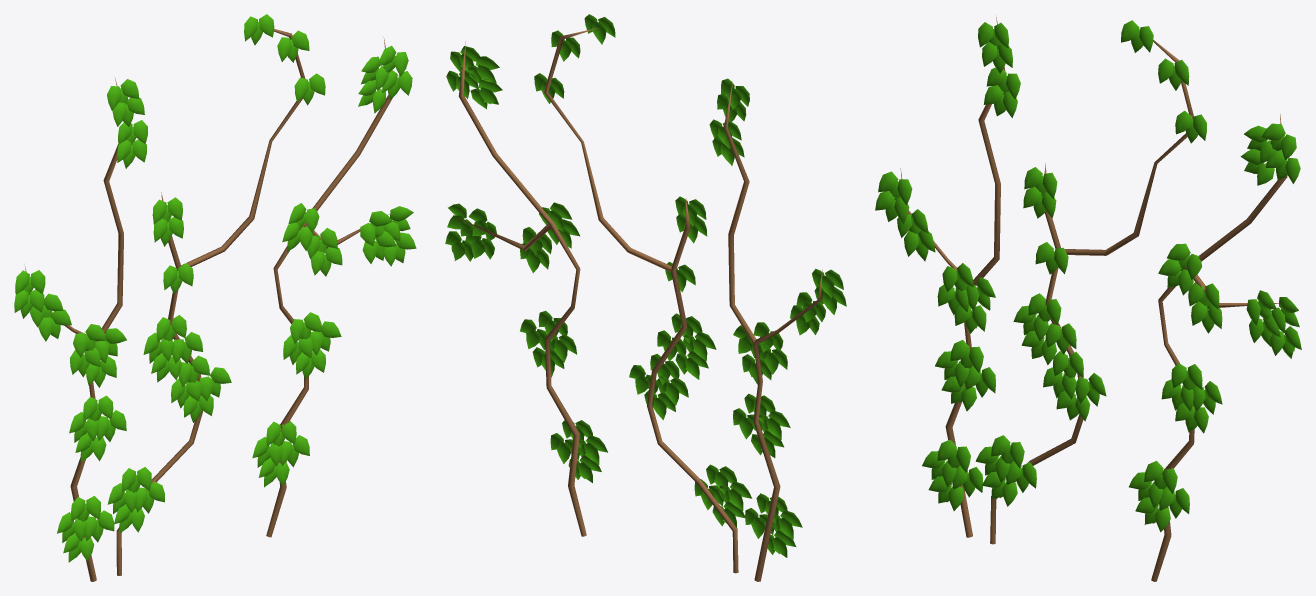
File: VineWallVar2.fbx
The picture shows the model from 3 angles, left to right: view 1: azimuth 30°, elevation 25°; view 2: azimuth 150°, elevation 25°; view 3: azimuth 330°, elevation 25°; orthographic projection. The views are drawn at different scales.
Visible parts, largest first — view 1: VineWallVar2; view 2: VineWallVar2; view 3: VineWallVar2.
Part boxes in pixels (box(x1,y1,x2,y2)): VineWallVar2: box(14, 14, 416, 581); VineWallVar2: box(445, 14, 846, 581); VineWallVar2: box(875, 17, 1301, 581).
Bounding box in the file's own units: 467 × 584 × 15.92.
